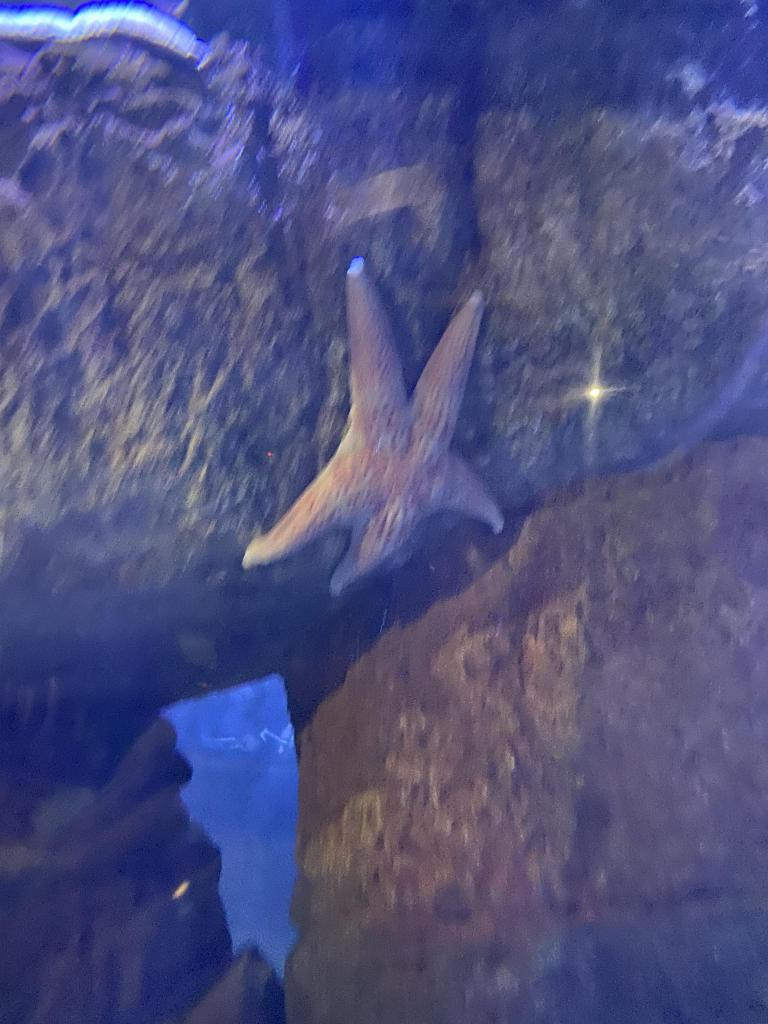starfish: (240, 254, 504, 600)
